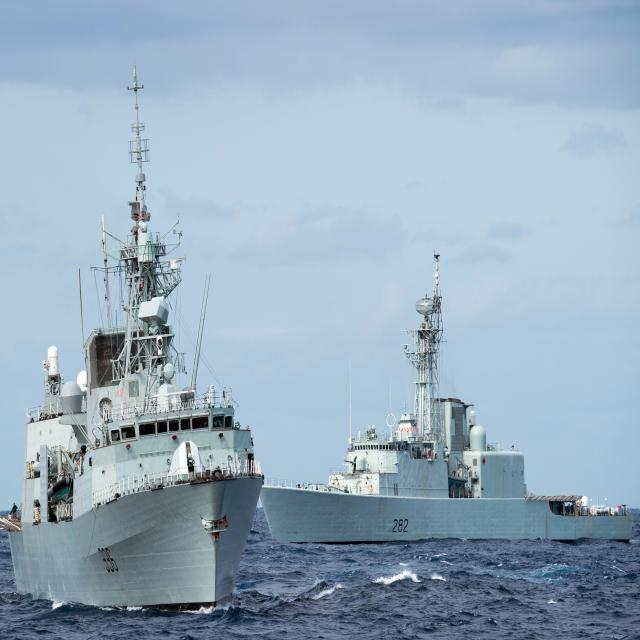navalvessels: (0, 84, 258, 616), (262, 235, 636, 546)
